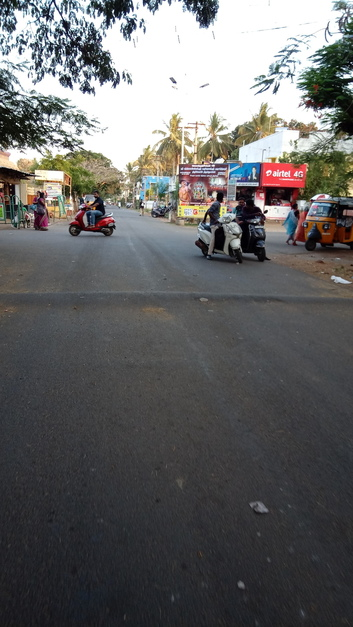bump: (1, 289, 353, 310)
